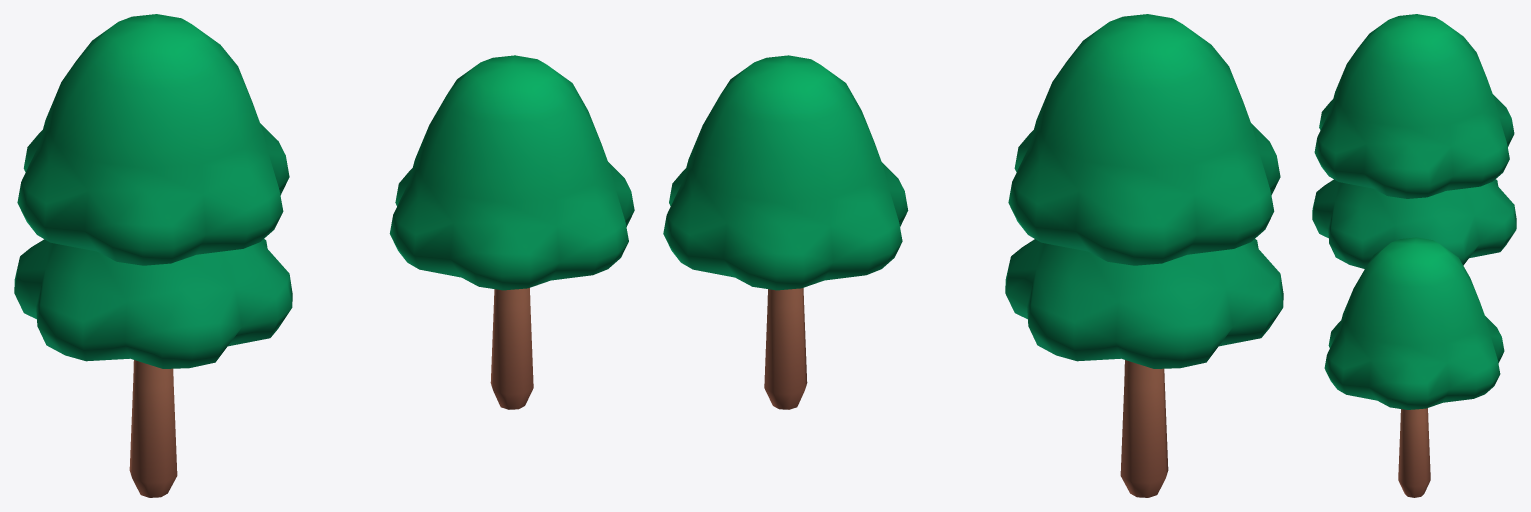
File: Trees.fbx
3 views of the same model, side by side, from view 1: azimuth 30°, elevation 25°; view 2: azimuth 150°, elevation 25°; view 3: azimuth 270°, elevation 25° (orthographic). The views are drawn at different scales.
Parts seen in each view (by area): view 1: Tree_Large_0, Tree_0; view 2: Tree_Large_0, Tree_0; view 3: Tree_Large_0, Tree_0.
Part boxes in pixels (bbox=[...]): Tree_Large_0: bbox=[14, 14, 292, 497]; Tree_0: bbox=[389, 55, 634, 409]; Tree_Large_0: bbox=[1005, 14, 1283, 497]; Tree_0: bbox=[663, 55, 908, 409]; Tree_Large_0: bbox=[1312, 14, 1516, 268]; Tree_0: bbox=[1324, 237, 1504, 497].
Bounding box in the file's own units: 662 × 498 × 269.
